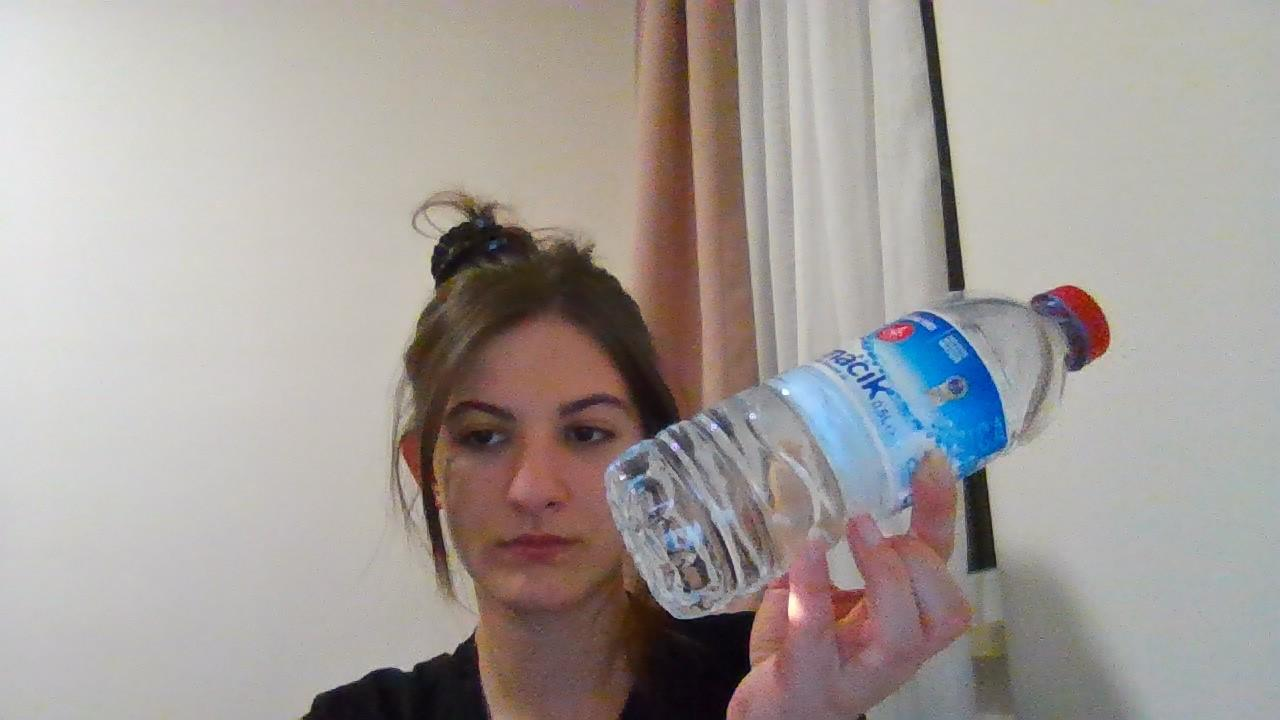bottle: (608, 285, 1112, 616)
